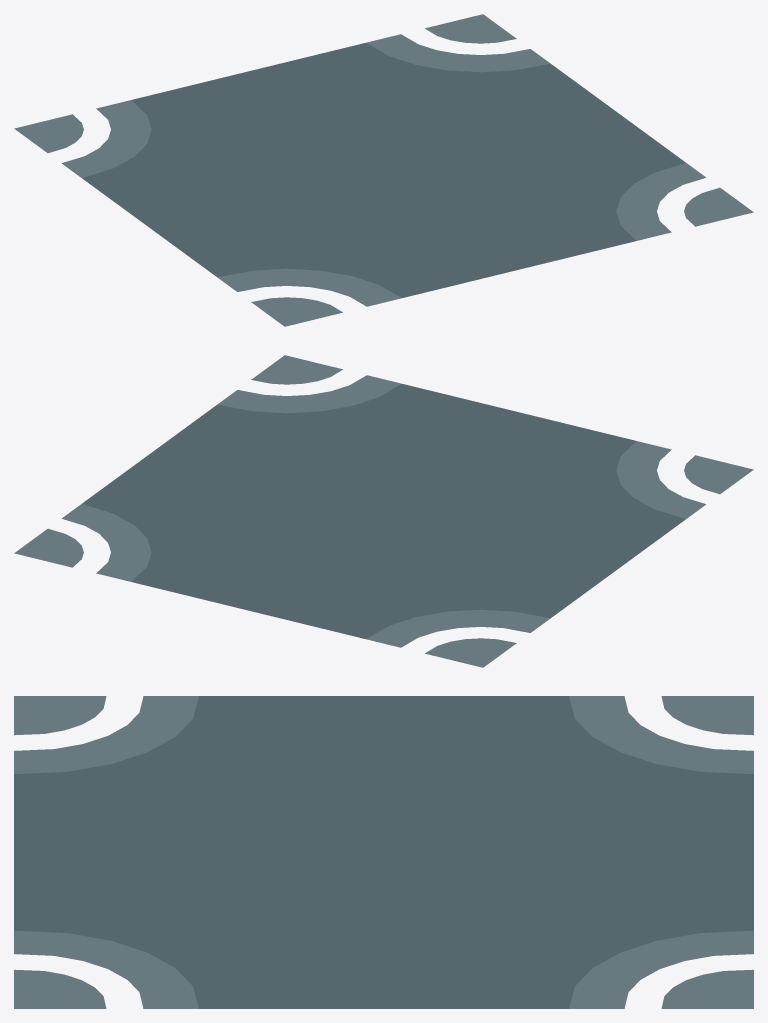
File: Ceiling_type_C_044.glb
The picture shows the model from 3 angles, top to bottom: view 1: azimuth 30°, elevation 25°; view 2: azimuth 150°, elevation 25°; view 3: azimuth 270°, elevation 25°; orthographic projection. The views are drawn at different scales.
Visible parts, largest first — view 1: Ceiling_type_C_044; view 2: Ceiling_type_C_044; view 3: Ceiling_type_C_044.
Boxes of the visible parts, x1,y1,x2,y2 form: Ceiling_type_C_044: (14,14,753,326); Ceiling_type_C_044: (14,355,753,667); Ceiling_type_C_044: (14,696,753,1008).
Size of the model in its own units: 4 by 0.012 by 4.
Materials: 2 (2 with a texture image).
